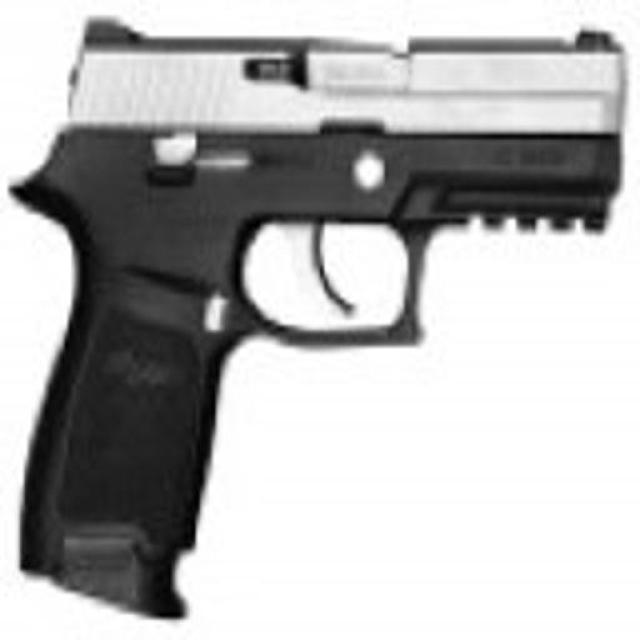pistol: (7, 15, 620, 596)
